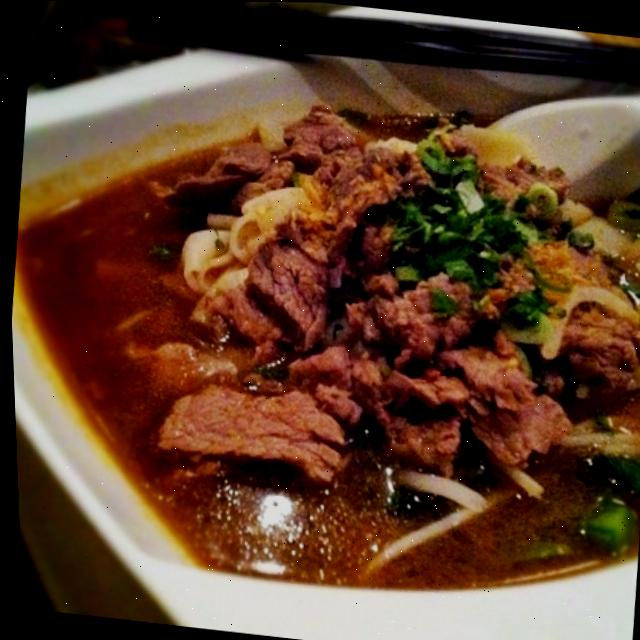面条主食: (0, 15, 640, 632)
